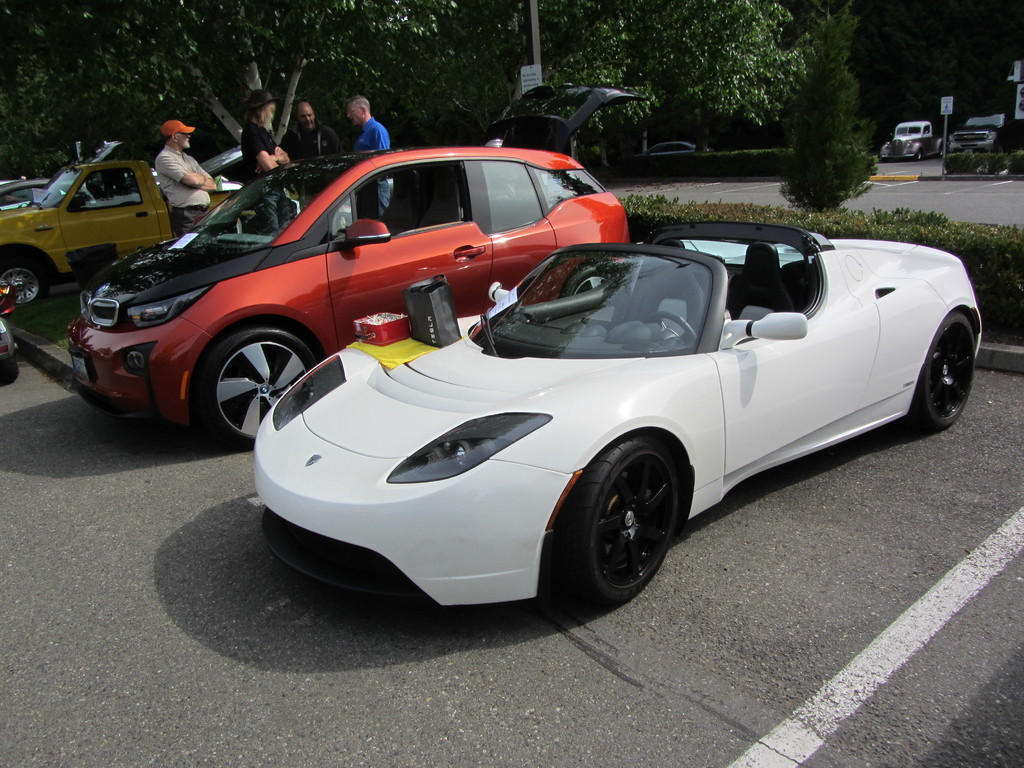Person: (153, 119, 220, 236), (236, 90, 285, 232), (280, 101, 340, 161), (343, 96, 388, 150)
